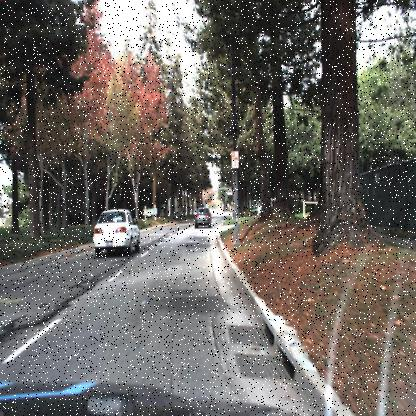car: (90, 206, 142, 259), (192, 204, 213, 231)
